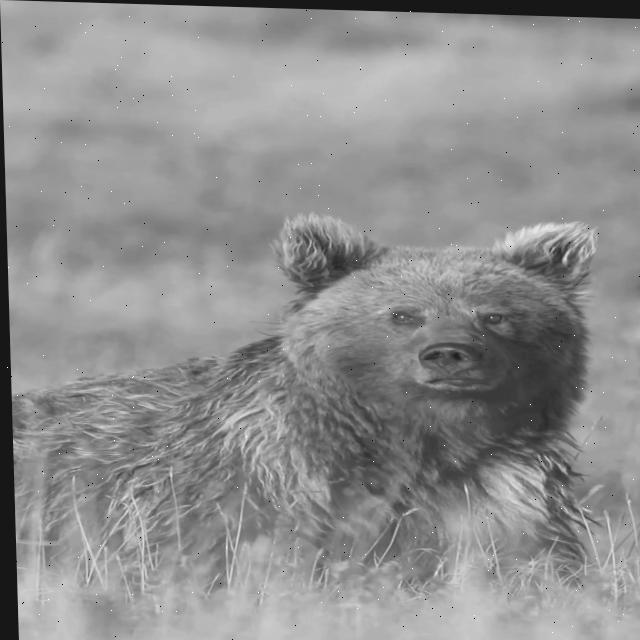Bear: (6, 202, 610, 615)
